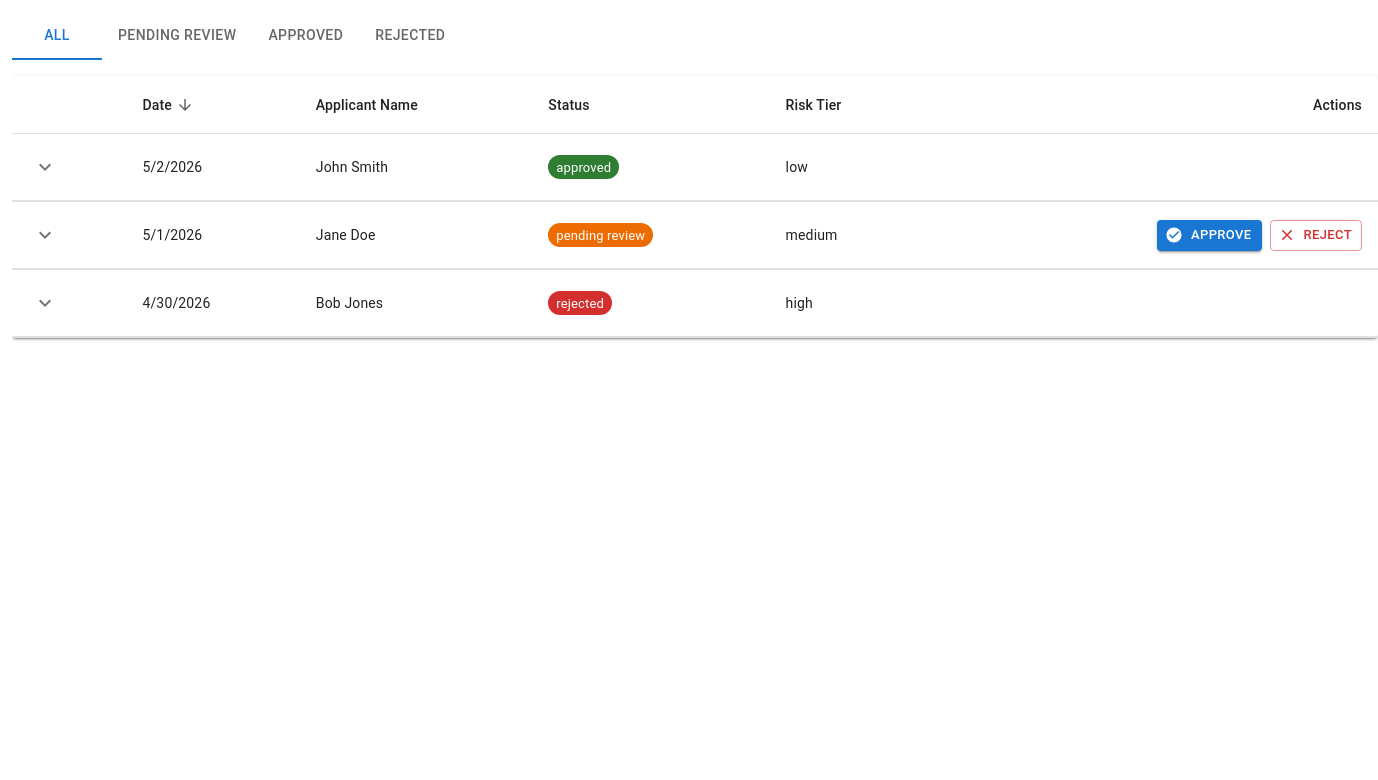
Test case: AdminApplicationsTab › Expandable detail rows › can expand a row to see agent results
Check: the text "Jane Doe" is shown, box left=300, top=202, right=532, bottom=269
Click the button named "Expand" next to "5/2/2026" at coordinates (45, 167), box left=28, top=150, right=62, bottom=184
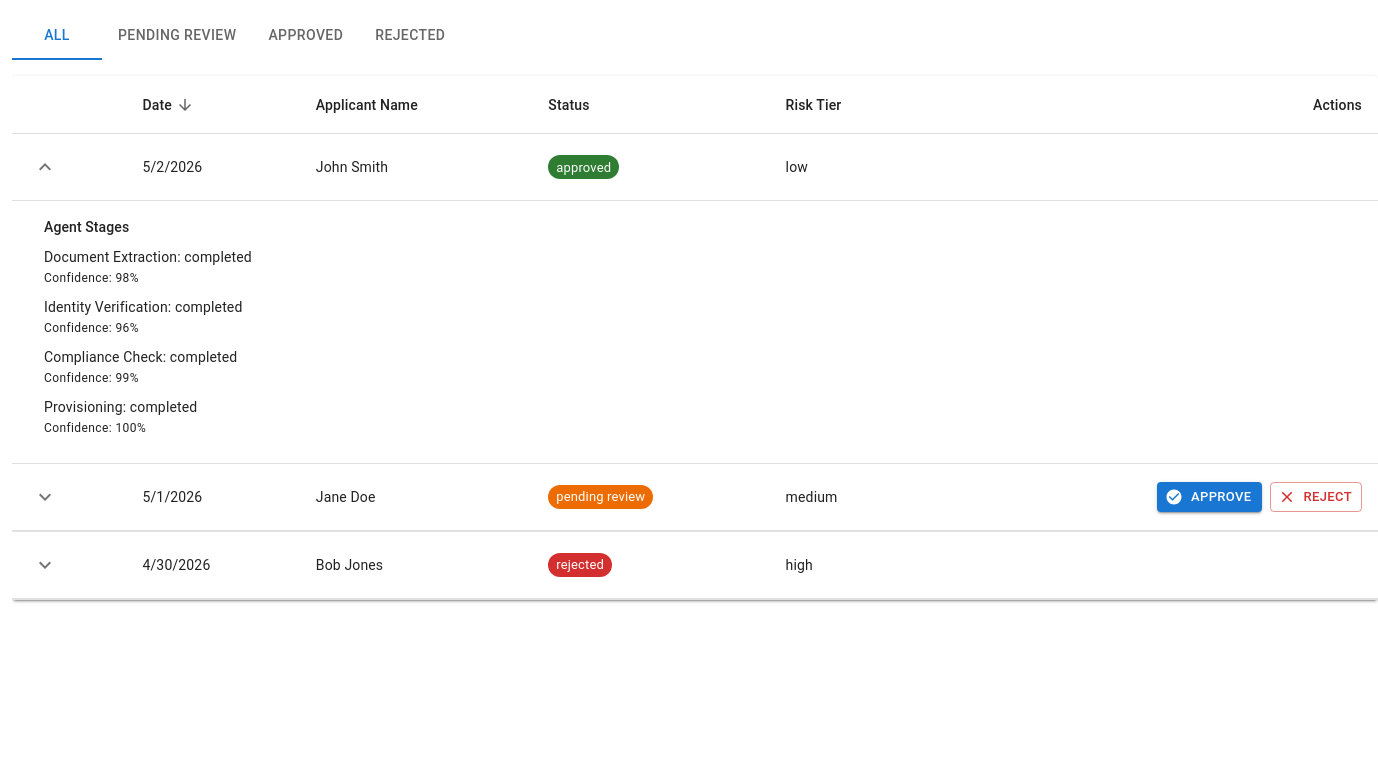
Check: the text "Document Extraction: completed" is shown, box left=44, top=249, right=252, bottom=265
